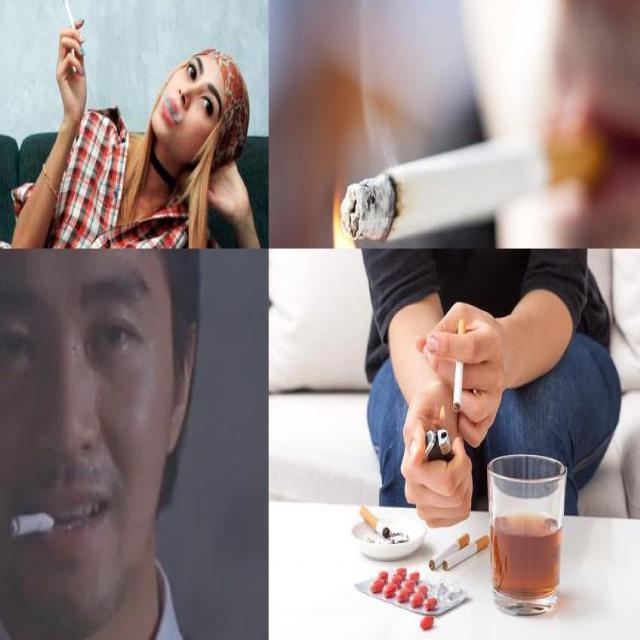cigarette: (340, 124, 610, 240), (452, 307, 464, 418), (9, 513, 58, 540), (59, 0, 81, 44)
